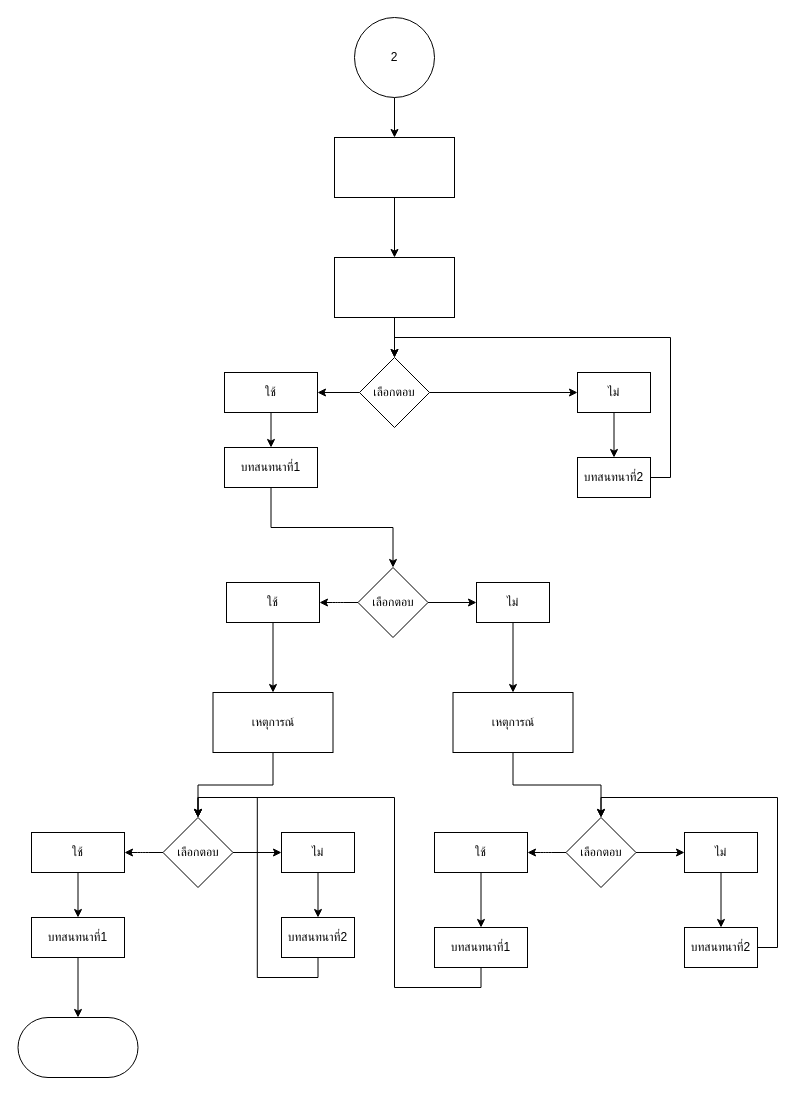
Some shapes in this 803 by 1095 pixel diagram are drawn without their labels. Here are the shapes that lost their labels. From the top down, the centre of each, then its label:
At [394,167]: "เล่นmini game".
At [394,287]: "เจอ NPC".
At [77,1047]: "จบ".
